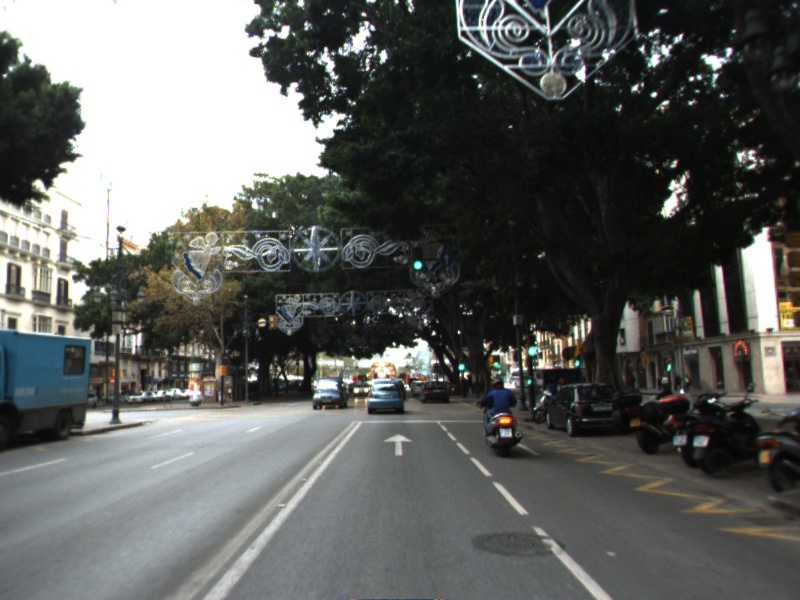STRAIGHT: (382, 431, 414, 458)
